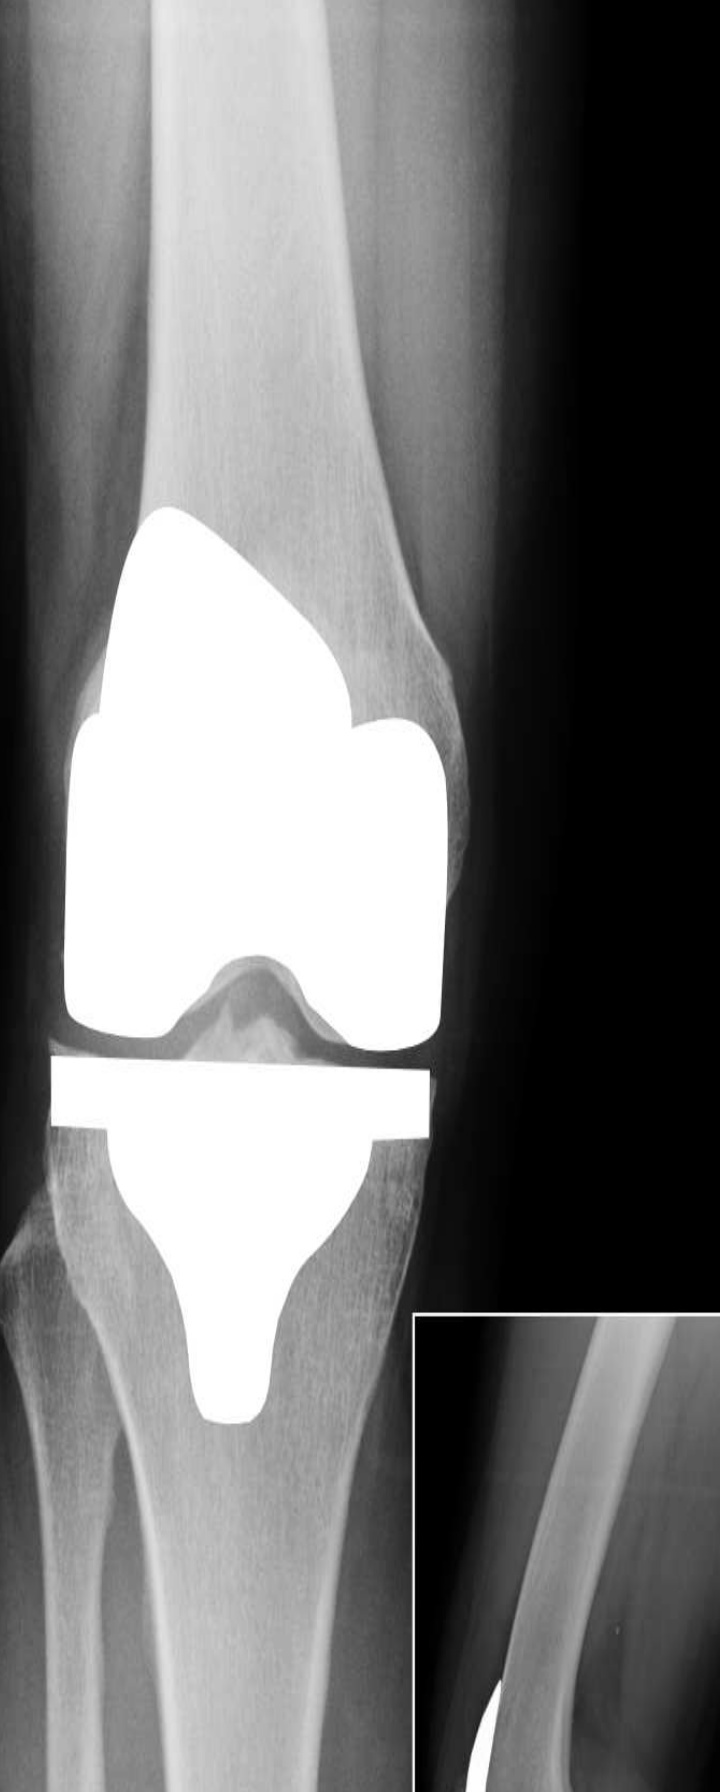Knee-Triathlon-Stryker: (59, 503, 451, 1442), (462, 1666, 503, 1783)
